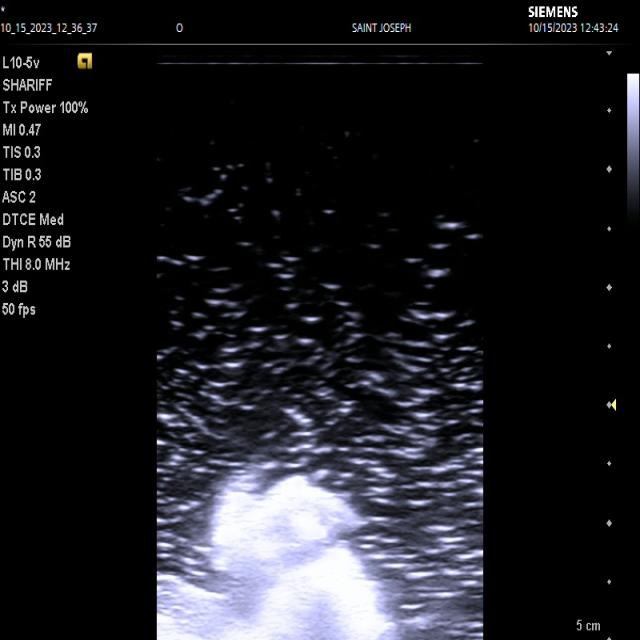tissue: (157, 477, 393, 640)
